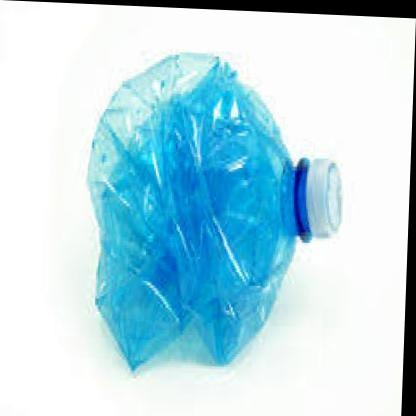trash: (88, 53, 340, 368)
